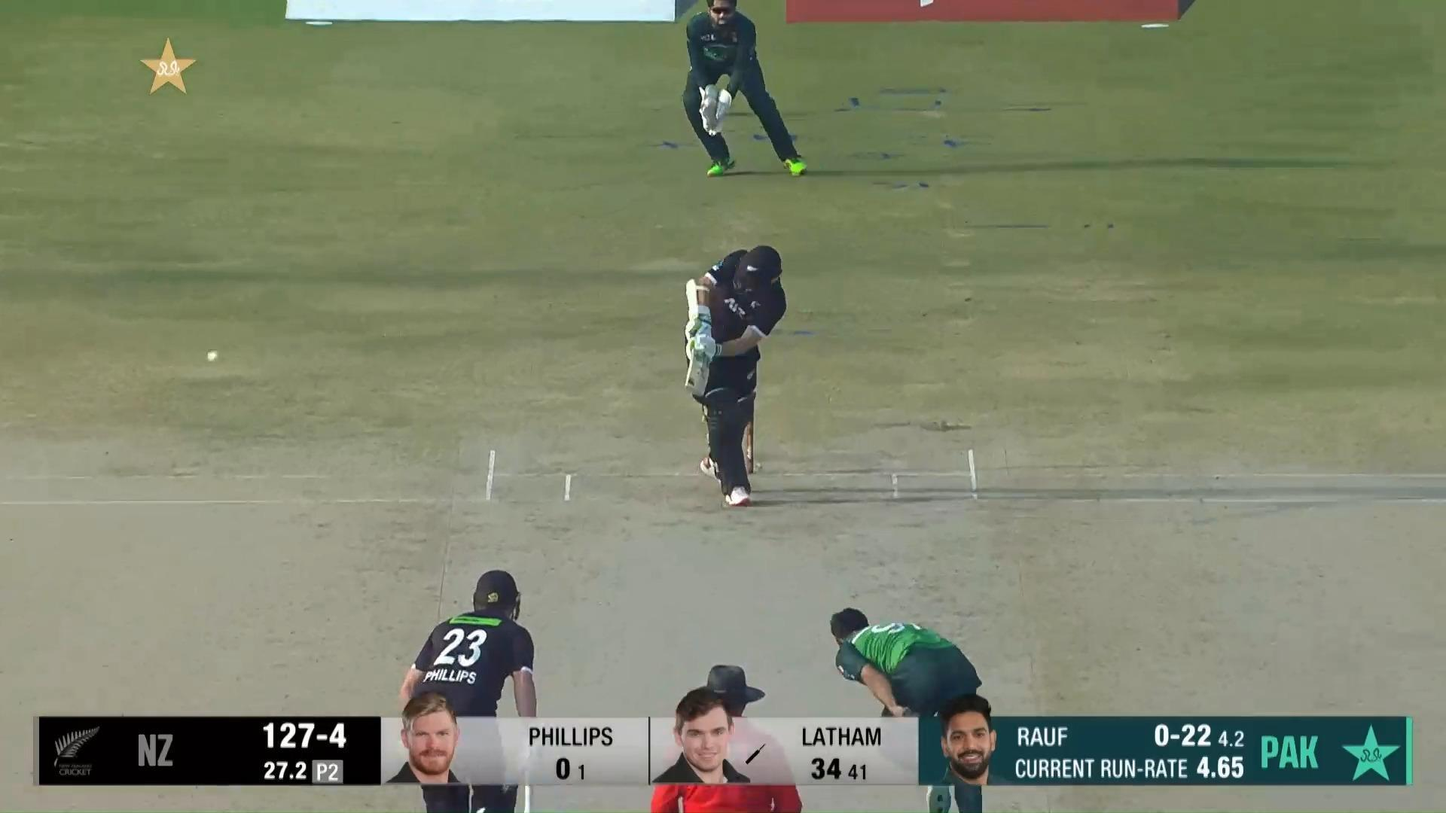BM 1: (683, 241, 787, 509)
BO: (827, 604, 985, 813)
